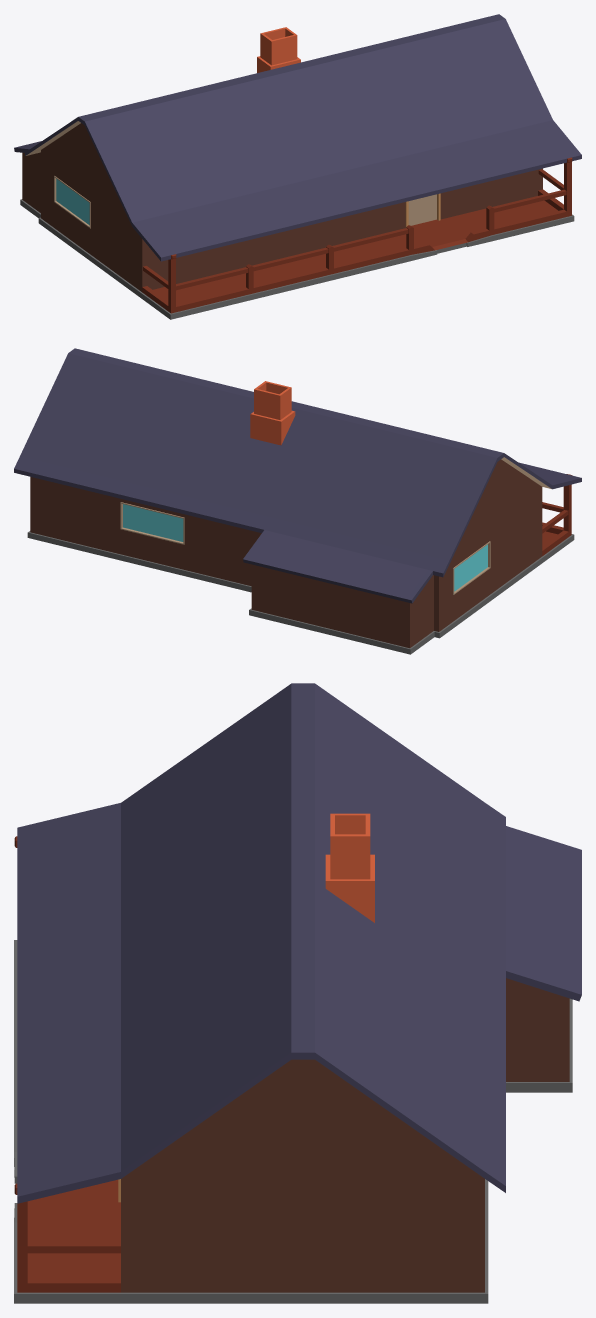
File: Puisto_Mökki.fbx
3 views of the same model, one above another, from view 1: azimuth 30°, elevation 25°; view 2: azimuth 150°, elevation 25°; view 3: azimuth 270°, elevation 25° (orthographic). The views are drawn at different scales.
Parts seen in each view (by area): view 1: Plane; view 2: Plane; view 3: Plane.
Part boxes in pixels (left/top/right/bottom): Plane: left=14, top=14, right=581, bottom=319; Plane: left=14, top=348, right=581, bottom=654; Plane: left=14, top=683, right=581, bottom=1303.
Size of the model in its own units: 1680 by 640 by 1092.
